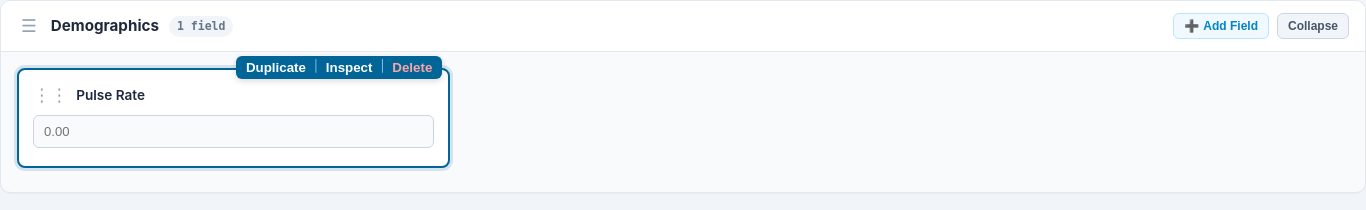
CrfAuthoringCanvas.vue & Drag-and-Drop Authoring Component Suite › duplicates field widget successfully inside section list and Pinia
This screenshot has width=1366, height=210.
Click the button titled "Duplicate Field".
click(276, 68)  # box top-left (242, 58), bottom-right (310, 77)
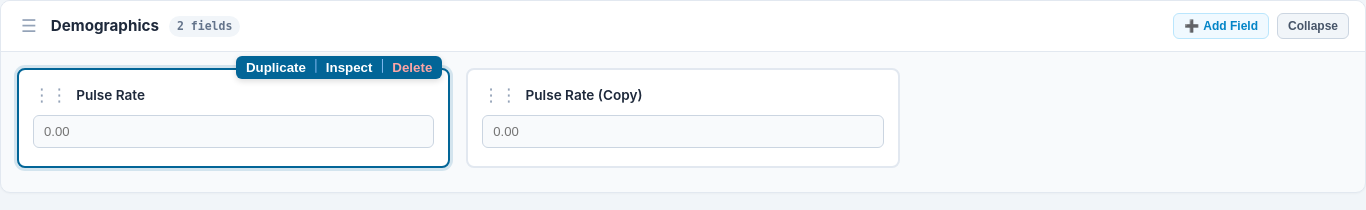
Expected: the text "Pulse Rate (Copy)" is shown, top-left (526, 85), bottom-right (642, 106)
